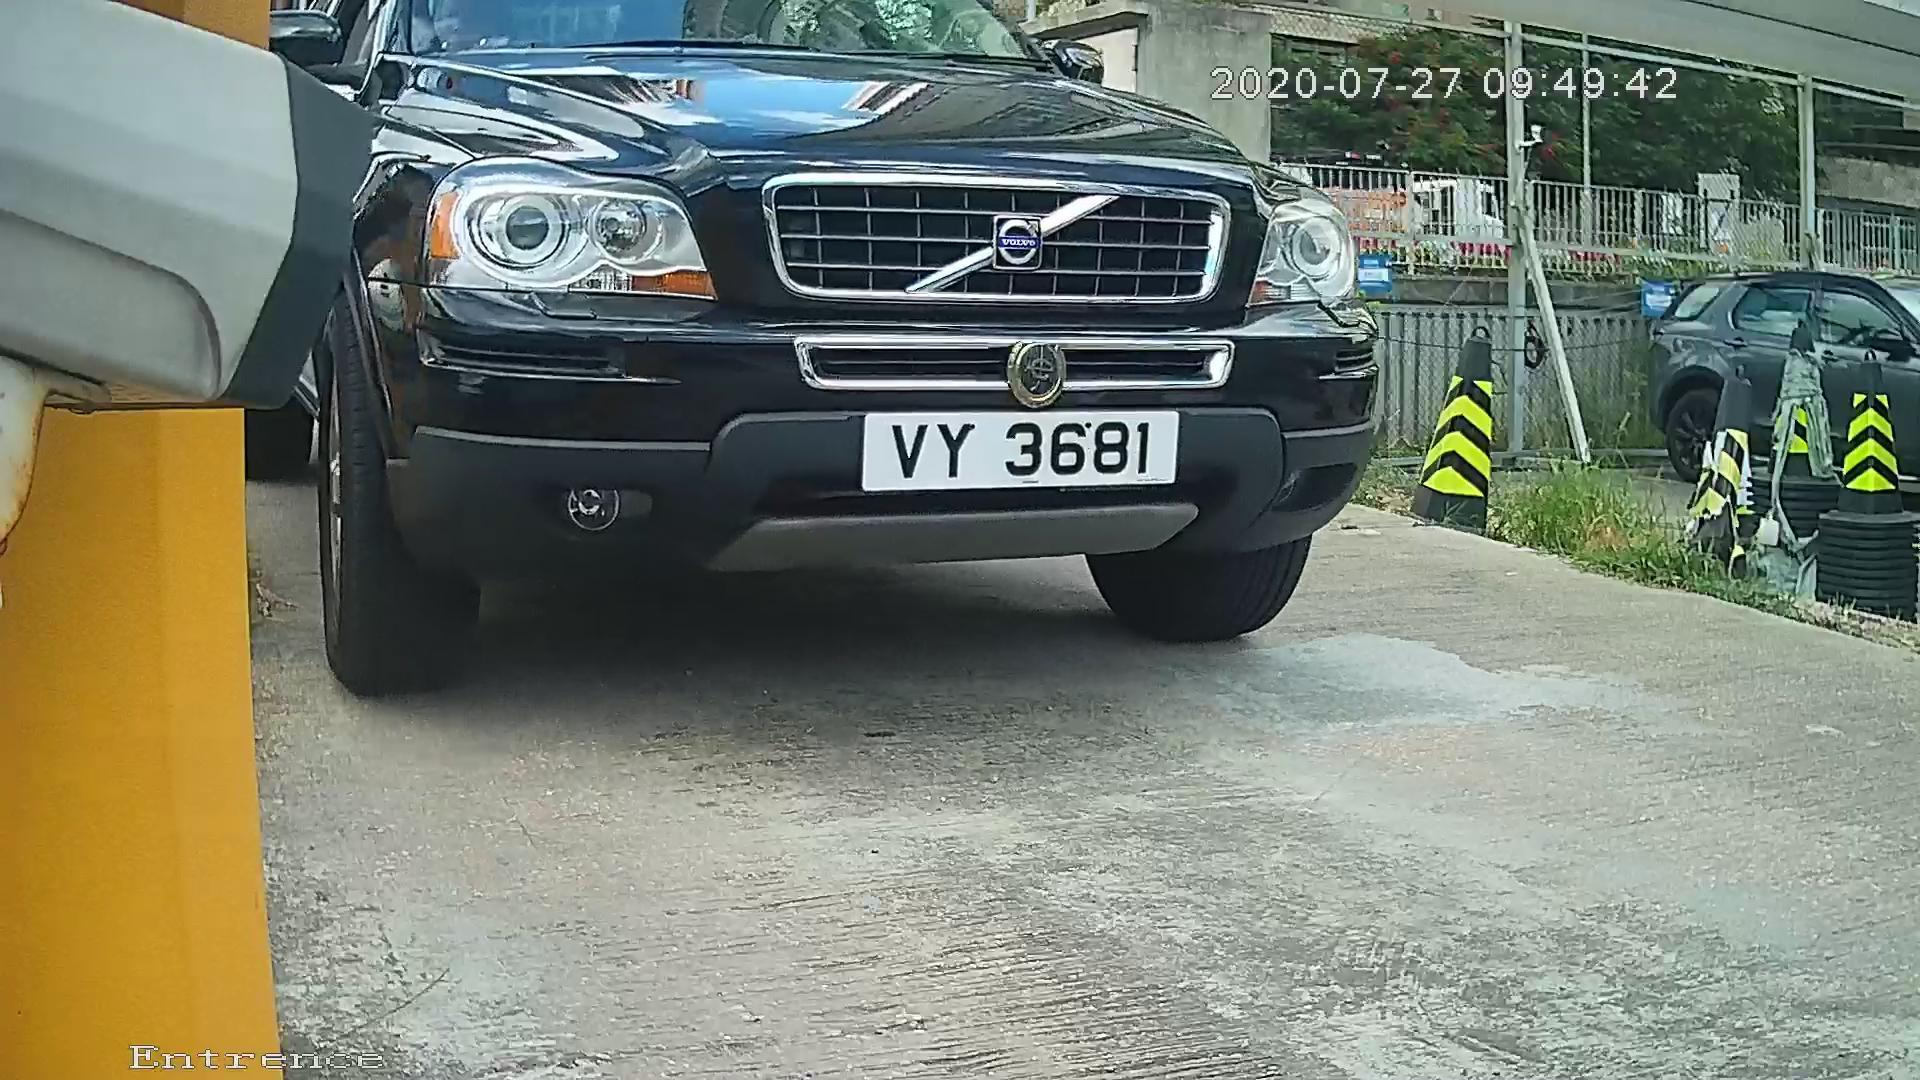Car: (146, 25, 1449, 685)
License Plate: (823, 391, 1192, 512)
